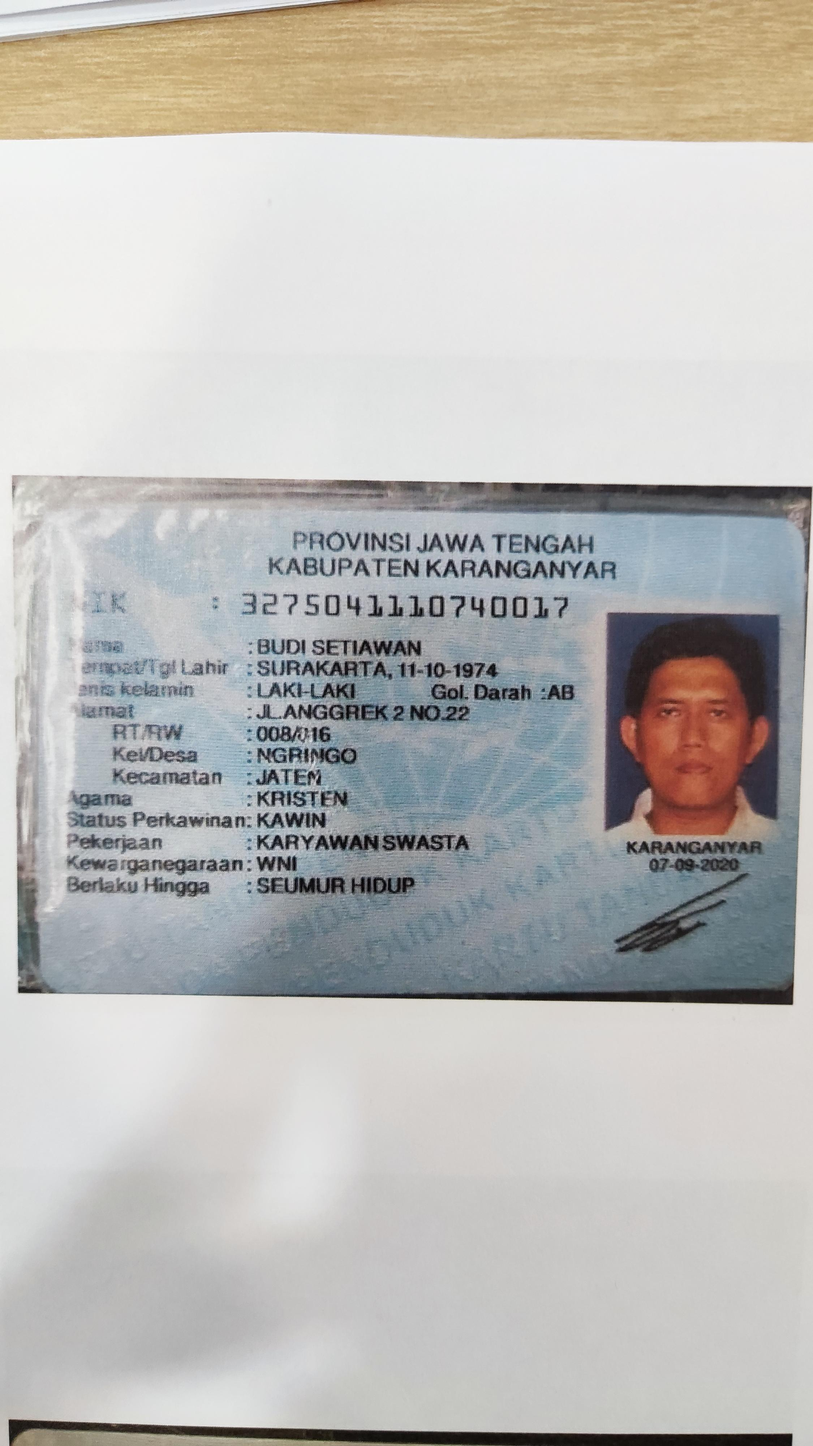ID-card: (41, 506, 786, 987)
